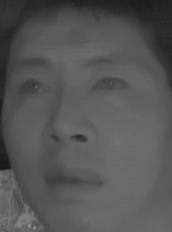eye: (12, 75, 56, 100), (87, 72, 130, 96)
mouth: (38, 155, 107, 201)
